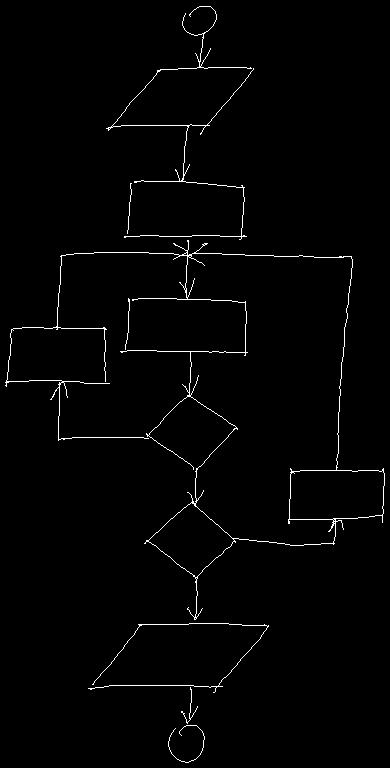arrow: (187, 243, 352, 469), (56, 243, 187, 329), (50, 381, 148, 440), (232, 518, 343, 545), (179, 240, 194, 299), (175, 125, 189, 181), (182, 351, 198, 396), (187, 576, 202, 619), (187, 468, 203, 505), (181, 687, 197, 723), (195, 33, 210, 67)
connection: (168, 725, 204, 762), (182, 6, 216, 35)
data: (88, 623, 268, 692), (106, 67, 253, 134)
decision: (144, 501, 235, 578), (146, 395, 237, 471)
process: (120, 298, 247, 355), (124, 180, 246, 239), (5, 327, 109, 386), (288, 468, 384, 523)
